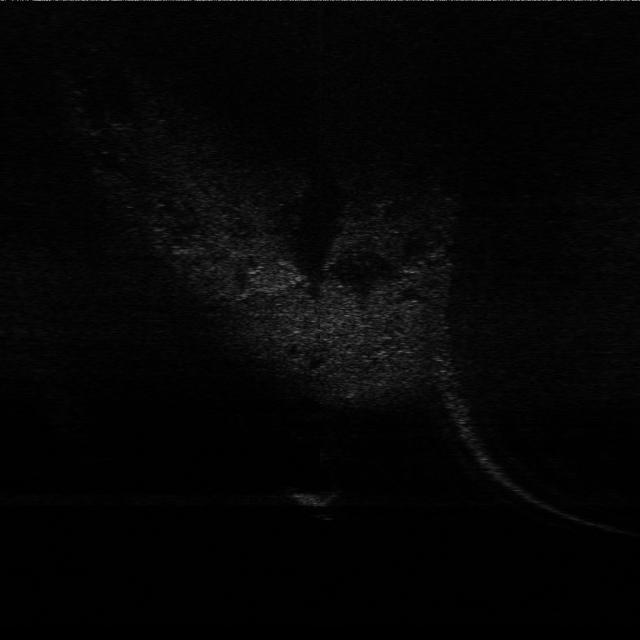square cage: (286, 477, 360, 517)
